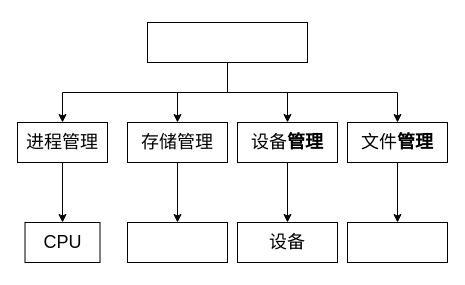
The diagram is 465 pixels wide and 285 high, and some of its shapes have lost their labels. Here are the shapes that lost their labels. From the top down, the centre of each, then its label:
At point 227,42: "OS".
At point 177,242: "内存".
At point 397,242: "外存".
